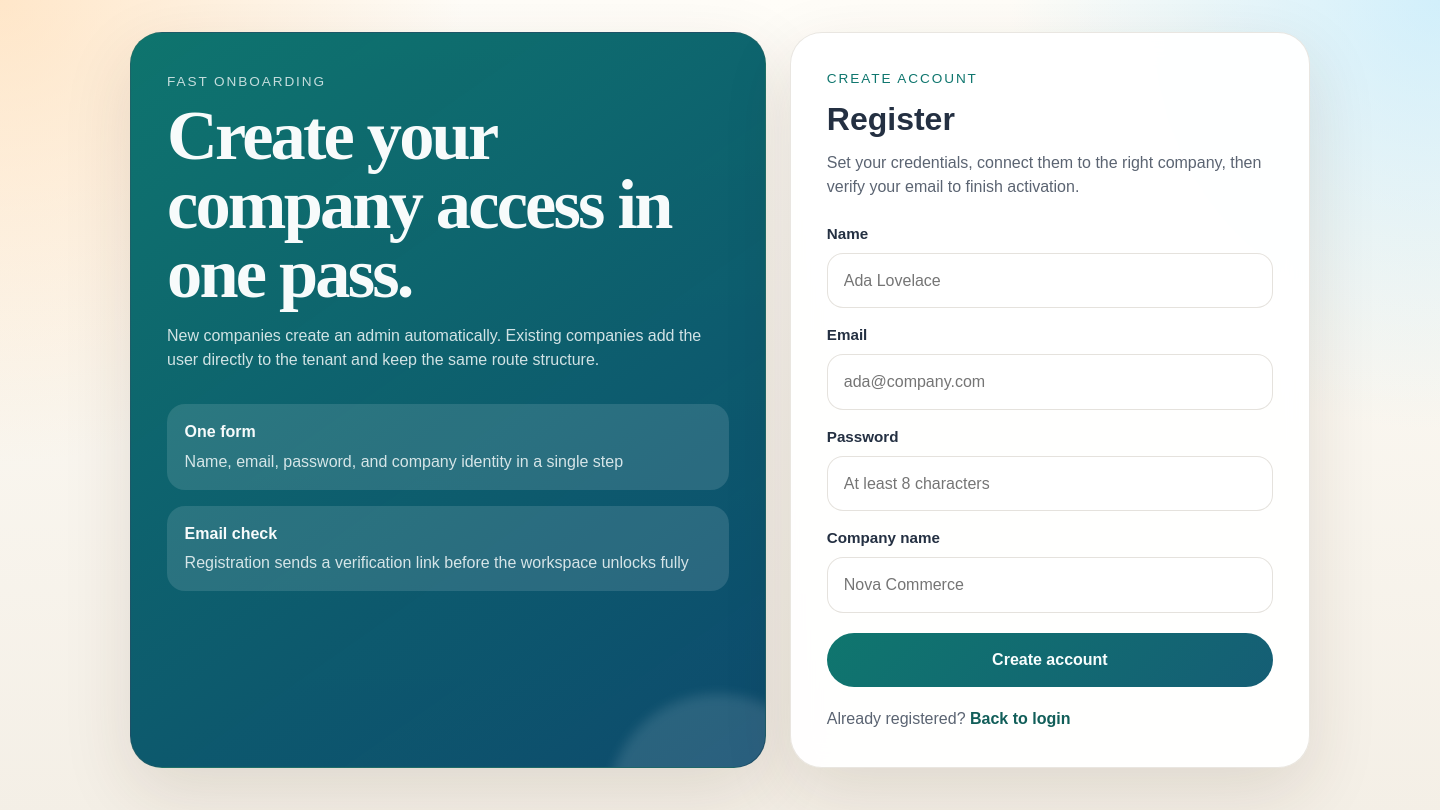
Test: authentication app flow › shows an error when registration uses a duplicated email
The image size is (1440, 810).
Type "Grace Hopper" into the field labelled "Name".
click(1050, 281); type("Grace Hopper")  # box [827, 253, 1273, 308]
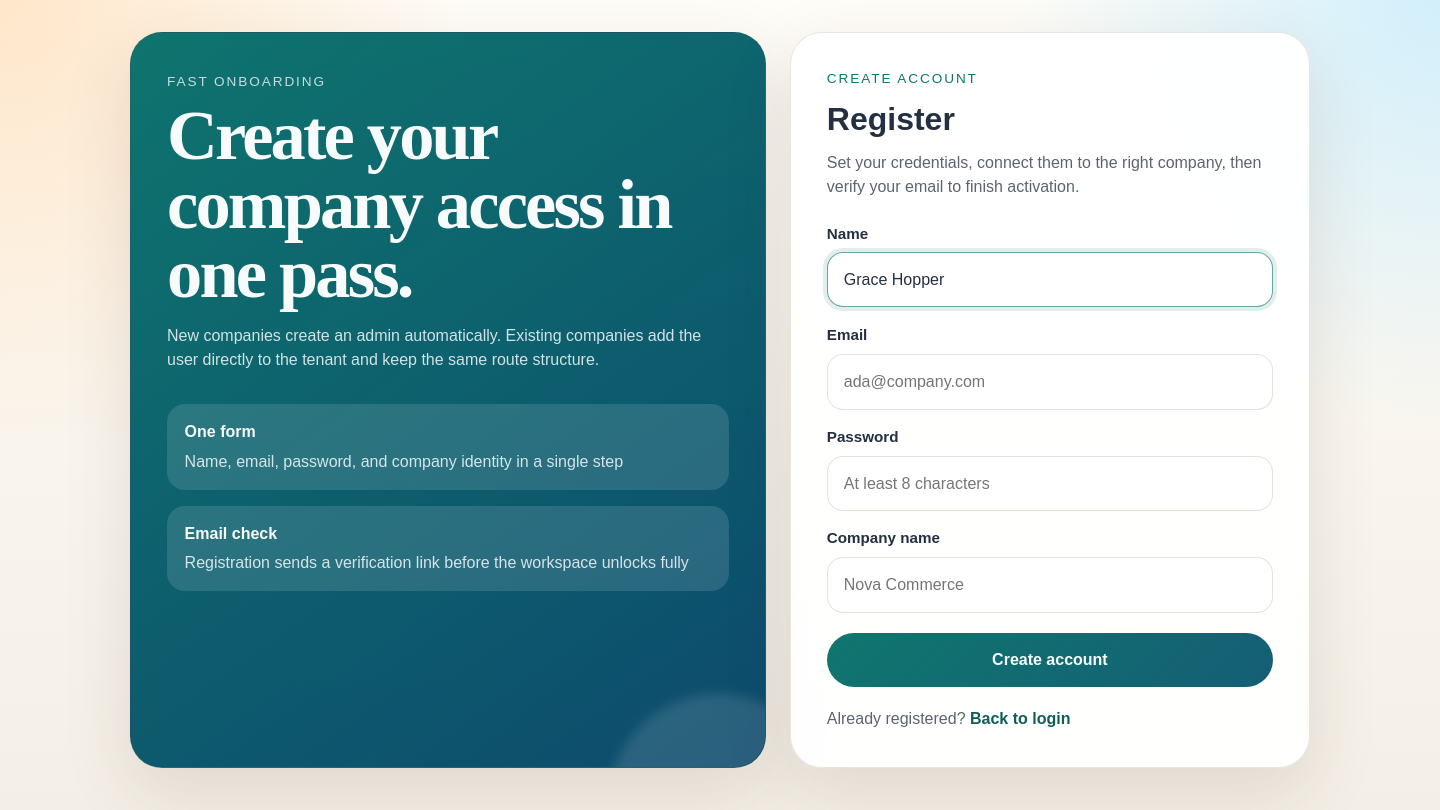
Type "grace@example.com" into the field labelled "Email".
click(1050, 382); type("grace@example.com")  # box [827, 354, 1273, 410]
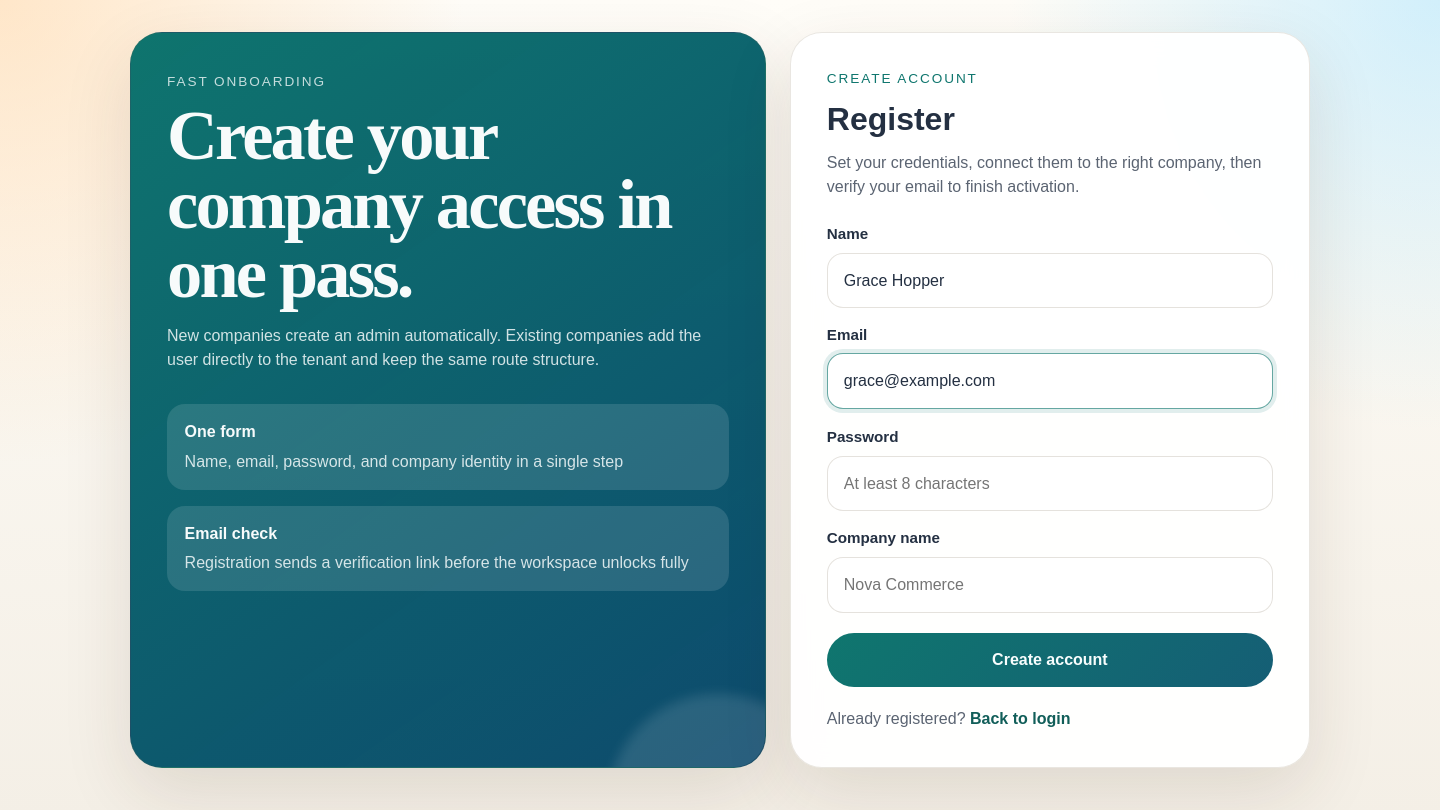
Type "password123" into the password field labelled "Password".
click(1050, 484); type("password123")  # box [827, 456, 1273, 511]
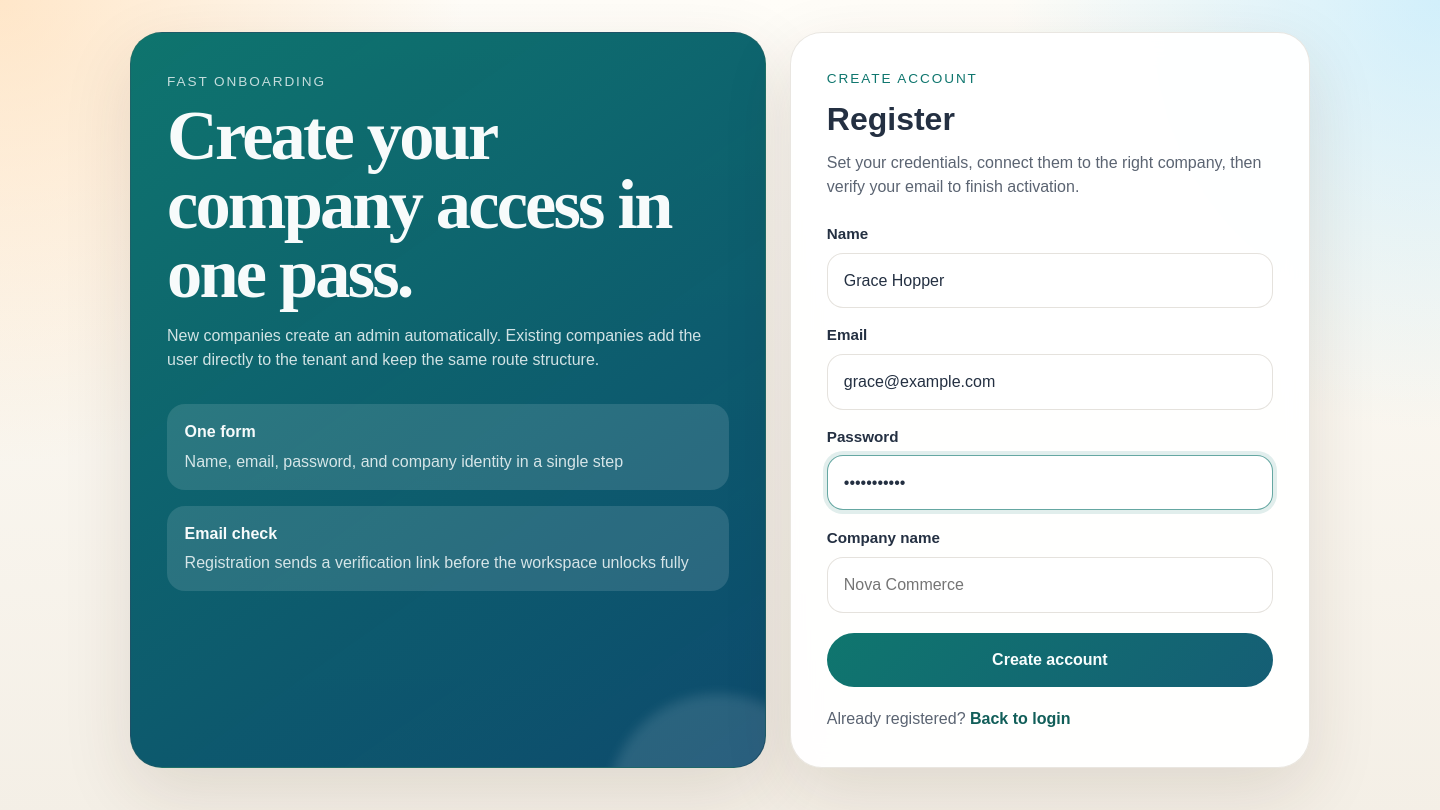
Type "Nova" into the field labelled "Company name".
click(1050, 585); type("Nova")  # box [827, 557, 1273, 613]
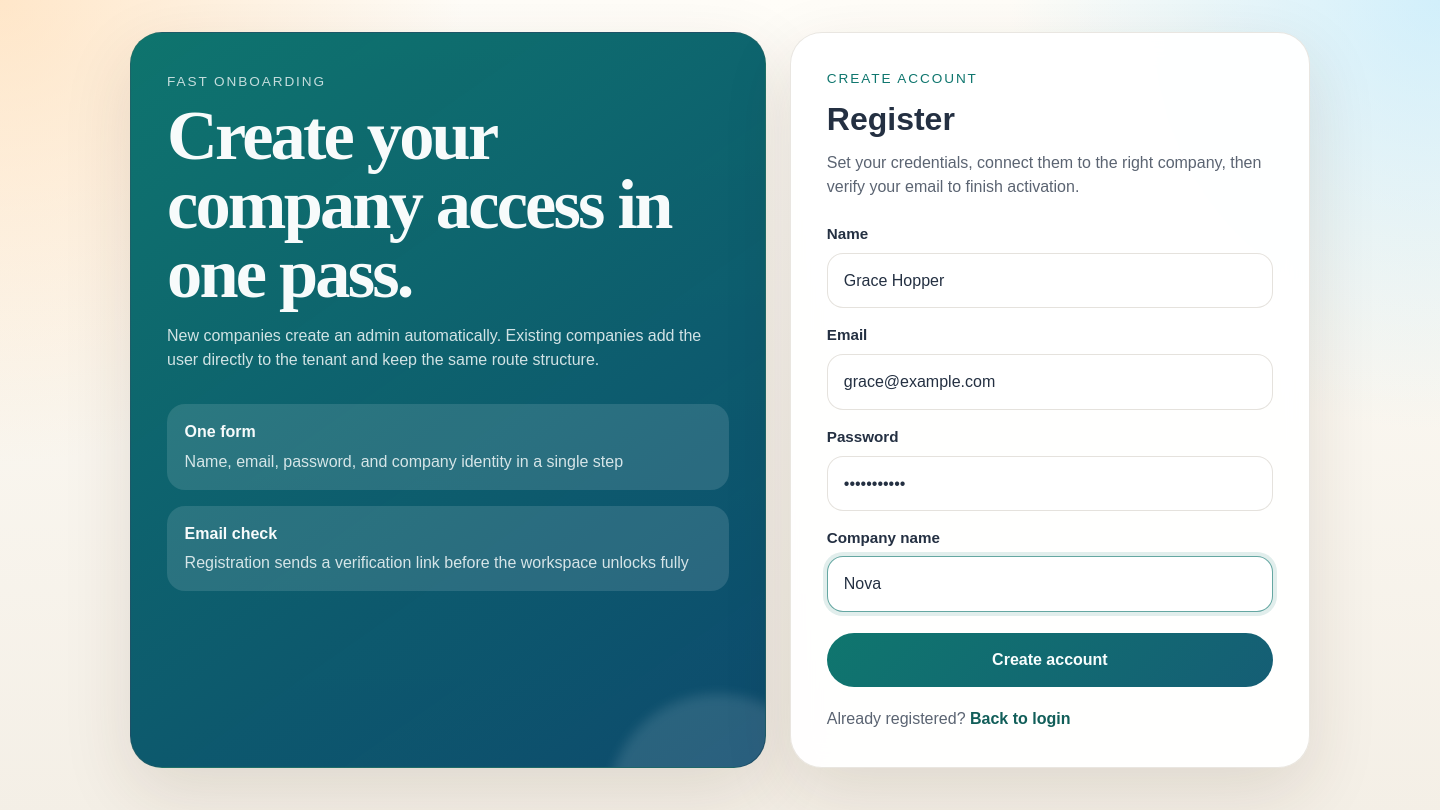
Click the button "Create account".
click(1050, 660)  # box [827, 633, 1273, 687]
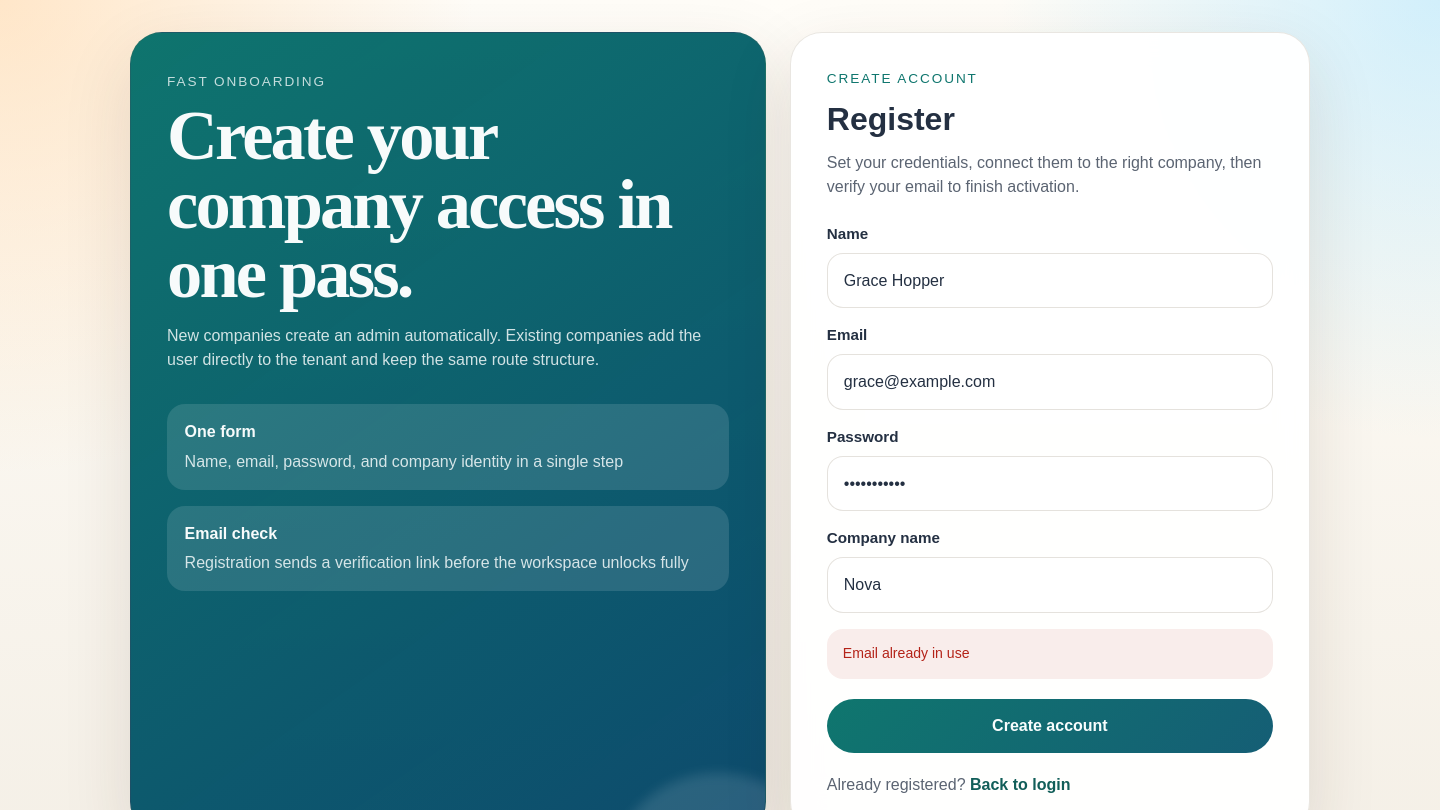
expect the text "Email already in use" is shown: met, box [827, 629, 1273, 679]
